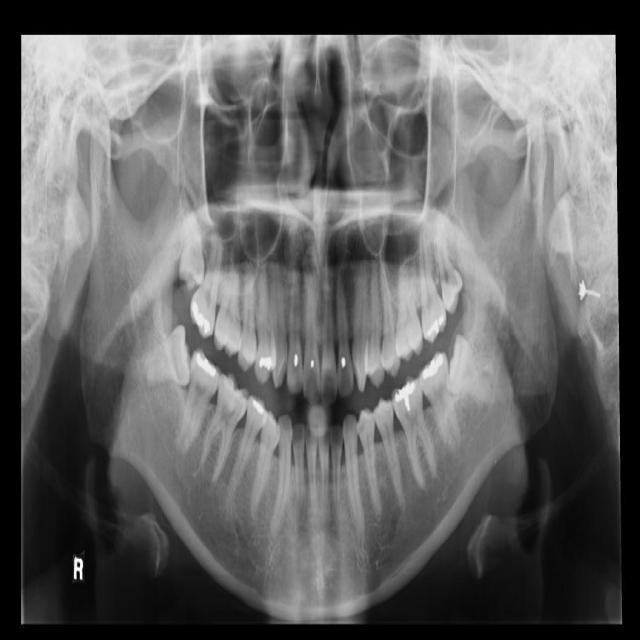3M ESPE Implant: (177, 213, 207, 292)
52: (179, 346, 230, 401), (381, 371, 432, 419), (410, 348, 456, 398), (178, 291, 222, 341), (413, 298, 457, 345), (251, 347, 279, 386), (244, 393, 271, 429), (334, 352, 355, 398), (302, 355, 319, 403), (287, 350, 303, 393)
73: (598, 574, 604, 584)
BioHorizons Implant: (417, 222, 448, 344)
BioLife Implant: (431, 206, 466, 315)
Biomet 3i Implant: (443, 332, 500, 406)
Blue Sky Bio Implant: (414, 348, 465, 458)
Caries: (187, 231, 225, 339)
Implant: (174, 347, 228, 460)
Keystone Dental Implant: (137, 322, 197, 393)
